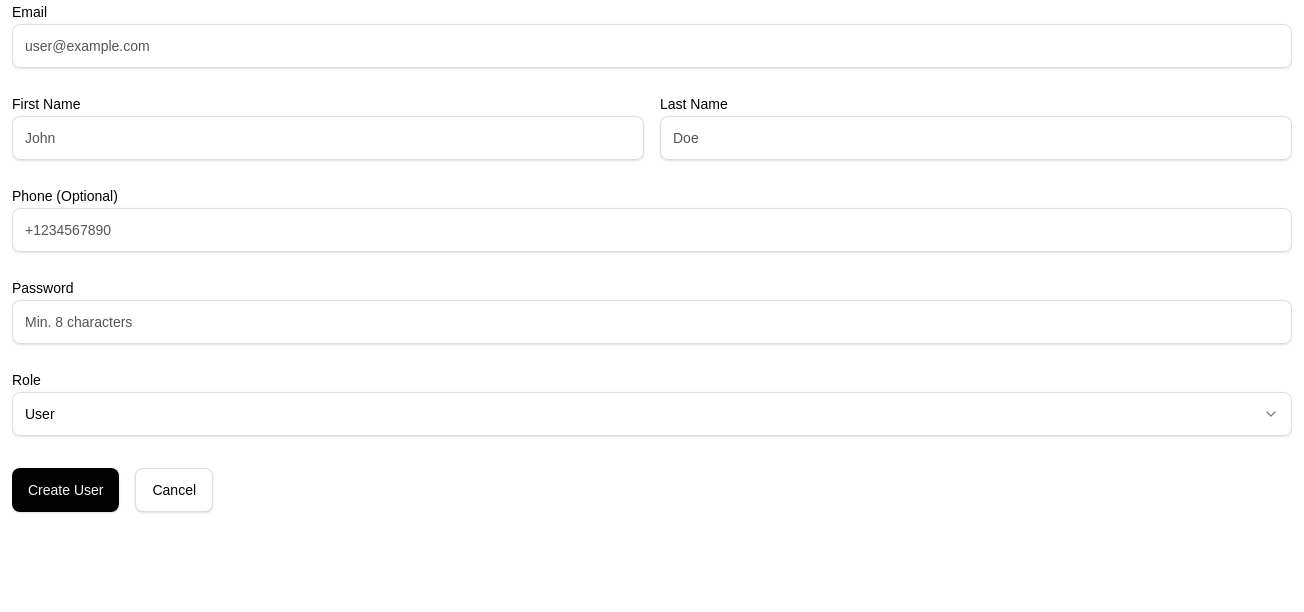
it: UserCreationForm › validates password minimum length
In the password field labelled "Password": (652, 322) [12,300,1292,344], type "short"
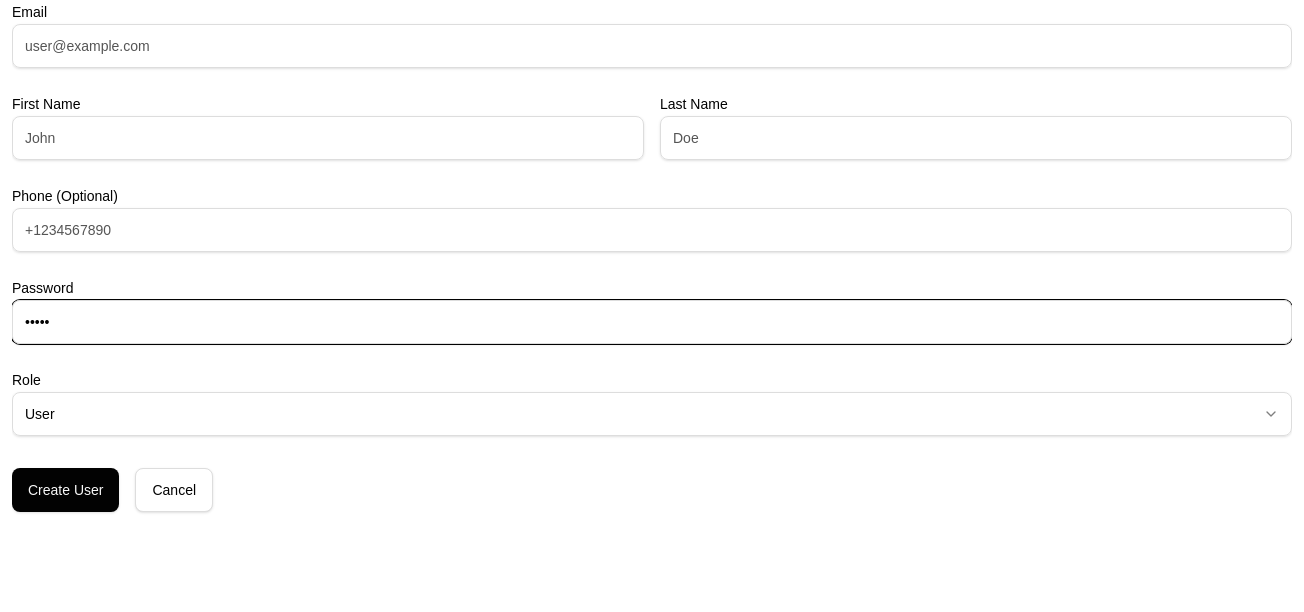
Click the button "Create User": (66, 490) [12,468,120,512]
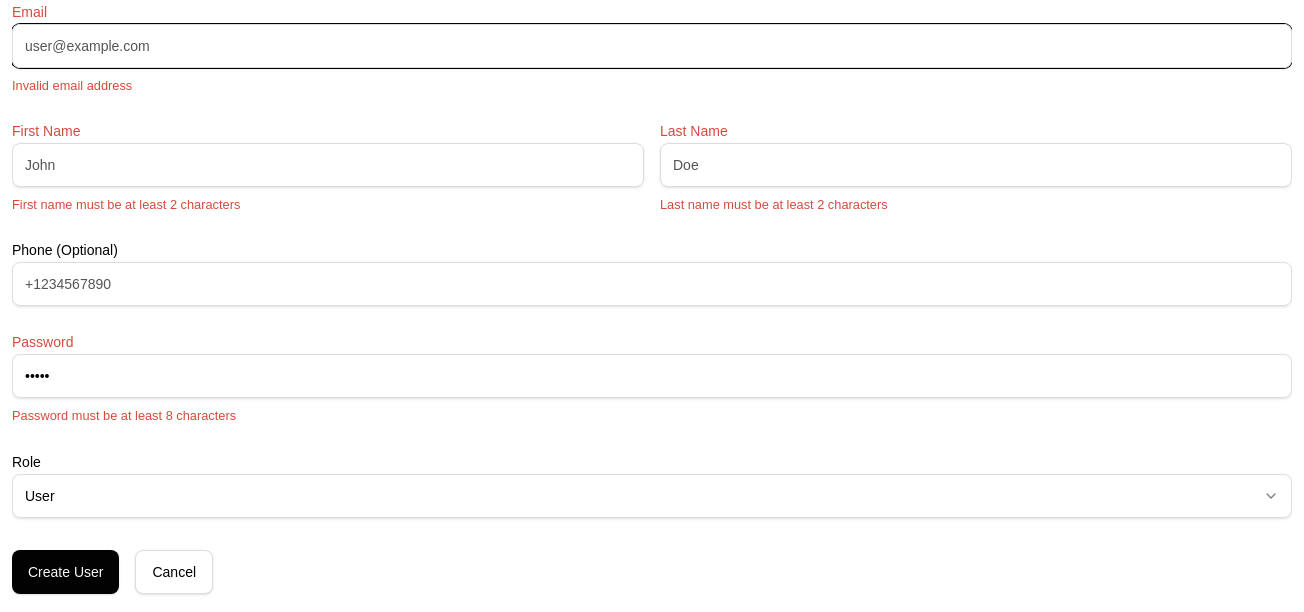
Result: the text "Password must be at least 8 characters" is shown at [12,408,236,423]
